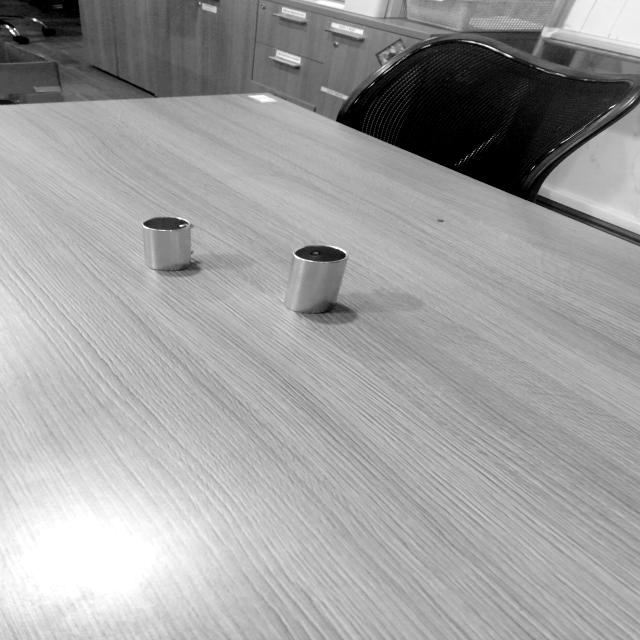Co_Lon: (279, 237, 350, 321)
Co_Nho: (142, 217, 193, 271)
